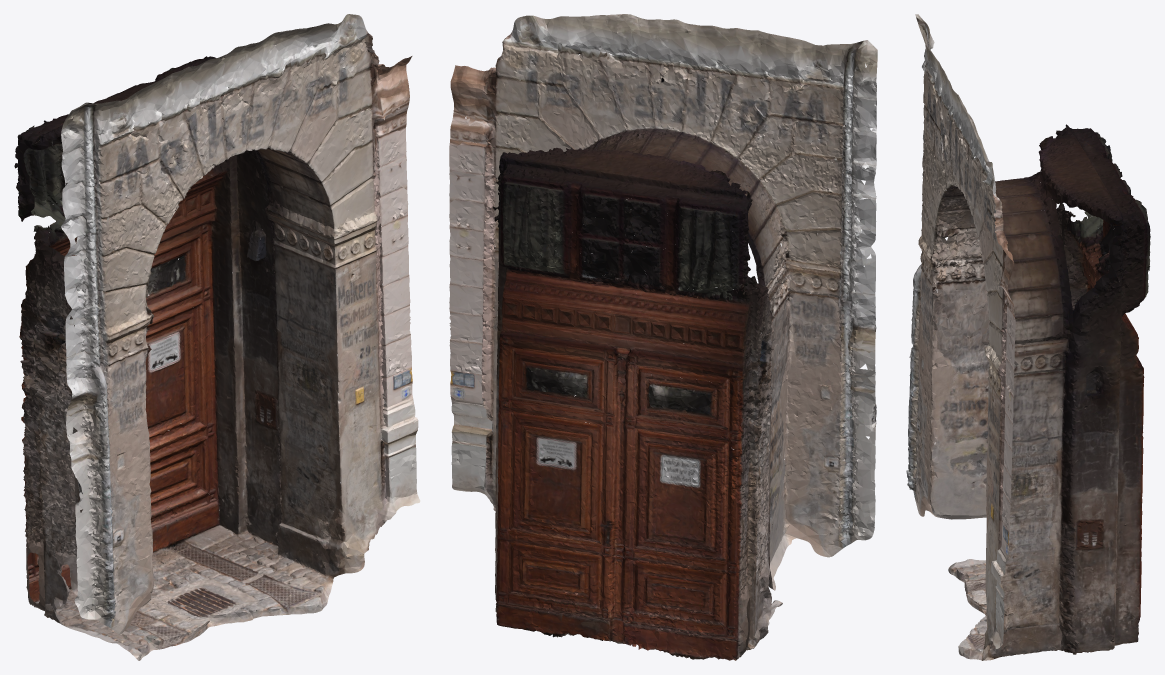
The picture shows the model from 3 angles, left to right: view 1: azimuth 30°, elevation 25°; view 2: azimuth 150°, elevation 25°; view 3: azimuth 270°, elevation 25°; orthographic projection. The views are drawn at different scales.
Parts seen in each view (by area): view 1: 2k.50k; view 2: 2k.50k; view 3: 2k.50k.
Boxes of the visible parts, x1=… form: 2k.50k: x1=14, y1=14, x2=420, y2=660; 2k.50k: x1=449, y1=14, x2=877, y2=660; 2k.50k: x1=906, y1=14, x2=1150, y2=660.
Size of the model in its own units: 5.35 by 7.63 by 3.18.
1 material, 1 textured.
